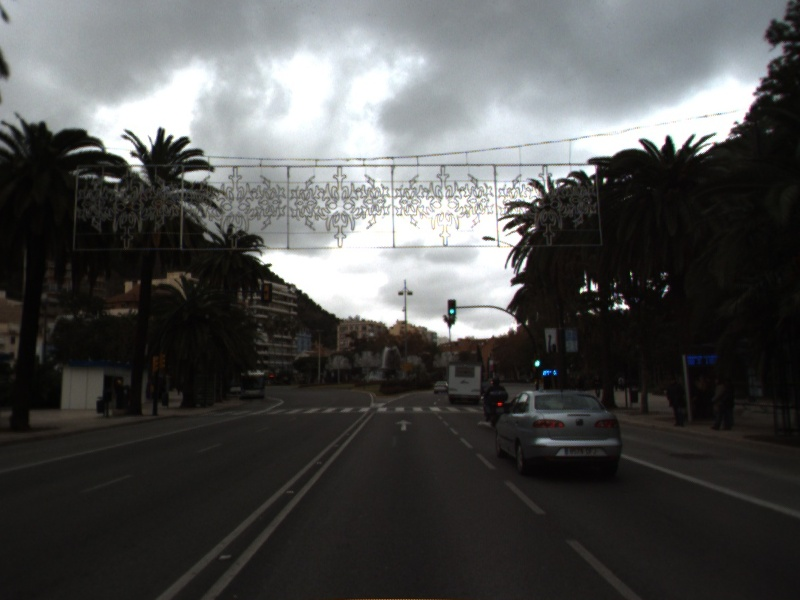STRAIGHT: (393, 417, 414, 433)
